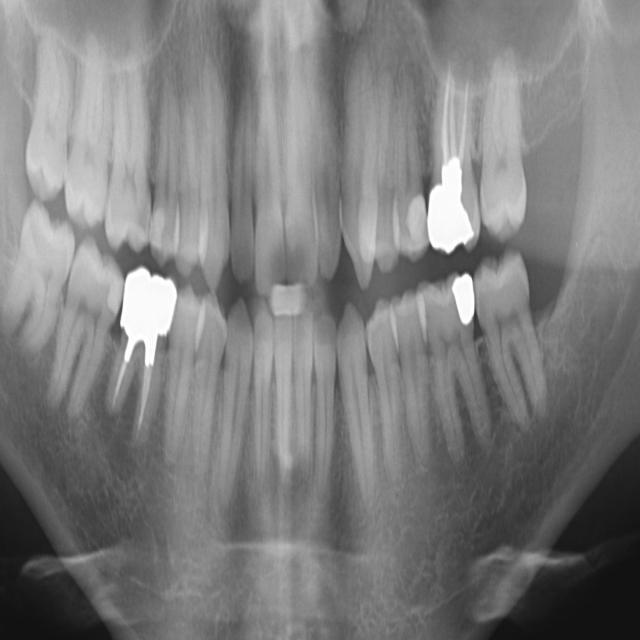infected-teeth: (97, 270, 176, 463), (430, 38, 481, 256)
